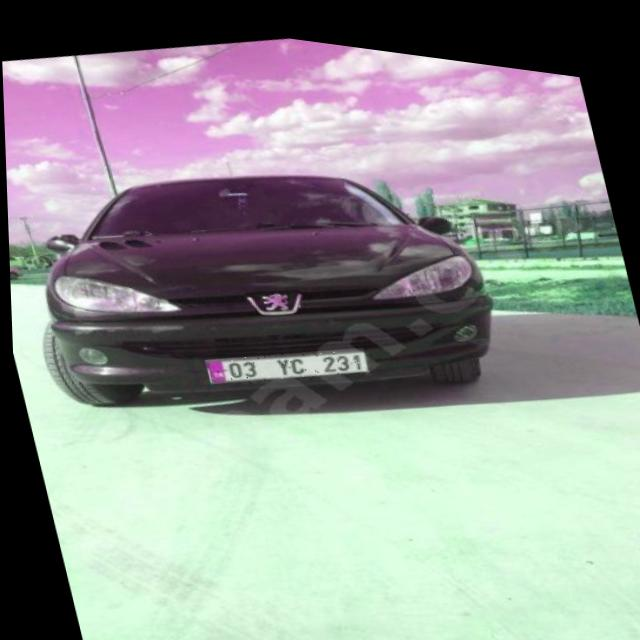license_plate: (201, 320, 367, 394)
